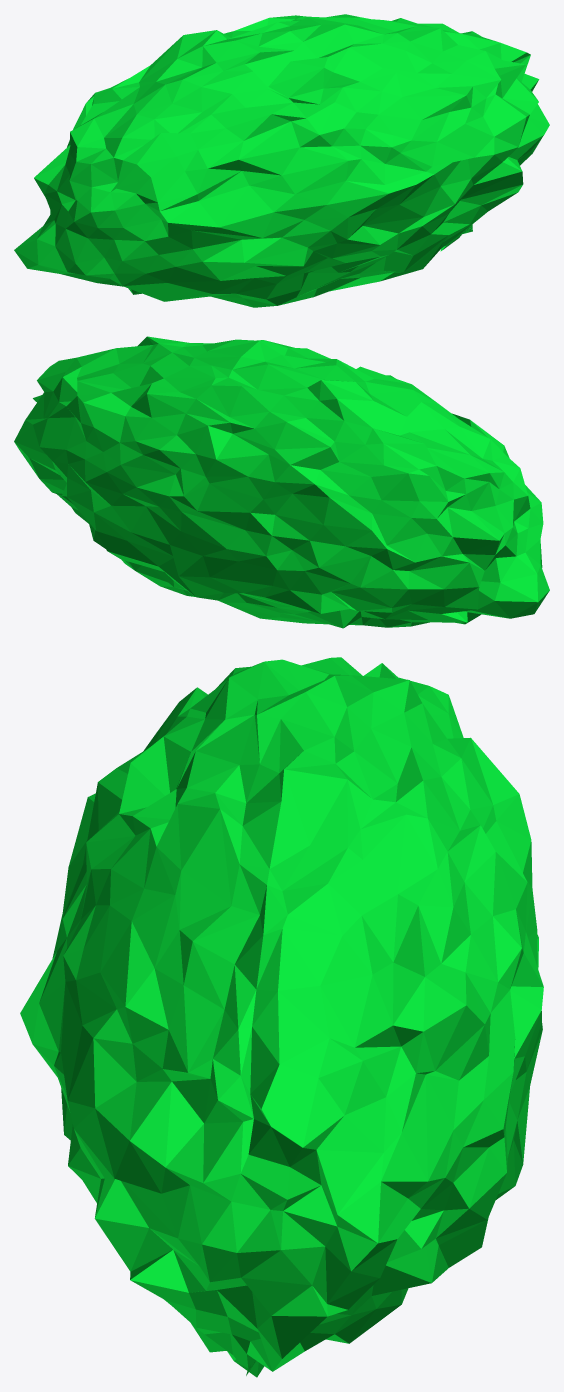
The model's file is bUSH.fbx.
3 views of the same model, one above another, from view 1: azimuth 30°, elevation 25°; view 2: azimuth 150°, elevation 25°; view 3: azimuth 270°, elevation 25° (orthographic). The views are drawn at different scales.
Visible parts, largest first — view 1: Icosphere; view 2: Icosphere; view 3: Icosphere.
Part boxes in pixels (bbox=[...]): Icosphere: bbox=[14, 14, 549, 307]; Icosphere: bbox=[14, 336, 549, 628]; Icosphere: bbox=[20, 657, 543, 1377].
Bounding box in the file's own units: 832 × 399 × 372.
